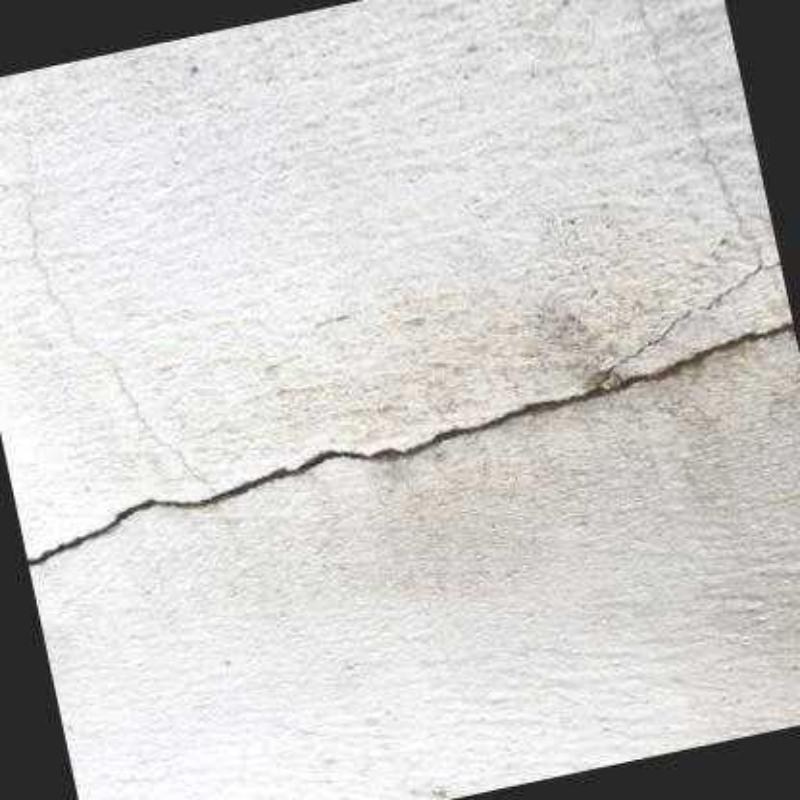crack: (25, 323, 792, 565)
